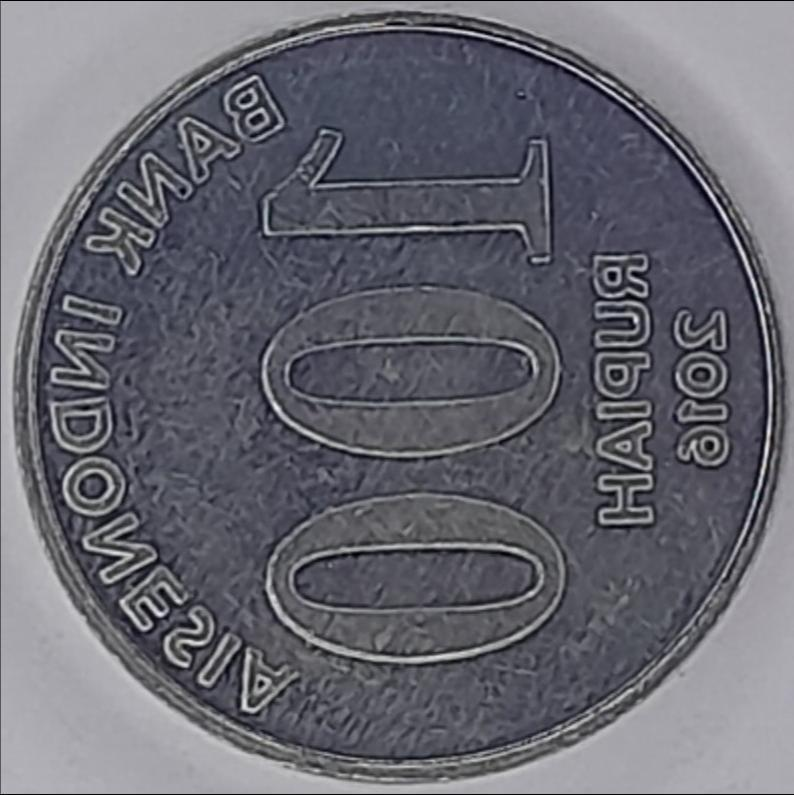coin_100_e2016: (8, 2, 790, 785)
